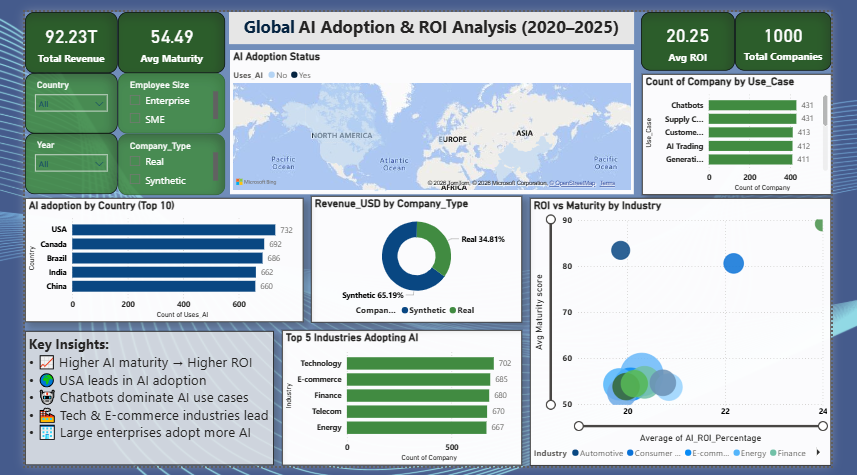

Layout of this report page (visuals, bound fields, positions):
{"tool":"powerbi","page":{"name":"Page 1","canvas":[1280,720],"ordinal":0},"visuals":[{"type":"card","fields":{"Values":["Count(ai-adoption-fortune500-synthetic-dataset-2020-202.Company)"]},"box":[1127,0,152.8,92.6],"z":0},{"type":"card","fields":{"Values":["ai-adoption-fortune500-synthetic-dataset-2020-202.Avg Maturity"]},"box":[146.9,0,170.4,97],"z":1000},{"type":"card","fields":{"Values":["ai-adoption-fortune500-synthetic-dataset-2020-202.Avg ROI"]},"box":[978.4,0,148.6,93.2],"z":2000},{"type":"card","fields":{"Values":["Sum(ai-adoption-fortune500-synthetic-dataset-2020-202.Revenue_USD)"]},"box":[0,0,146.9,97],"z":3000},{"type":"filledMap","title":"AI Adoption Status","fields":{"Category":["ai-adoption-fortune500-synthetic-dataset-2020-202.Country"],"Series":["ai-adoption-fortune500-synthetic-dataset-2020-202.Uses_AI"],"Y":["CountNonNull(ai-adoption-fortune500-synthetic-dataset-2020-202.Company)"]},"box":[325.4,60.3,641.3,228.6],"z":4000},{"type":"barChart","title":"Top 5 Industries Adopting AI","fields":{"Category":["ai-adoption-fortune500-synthetic-dataset-2020-202.Industry"],"Y":["CountNonNull(ai-adoption-fortune500-synthetic-dataset-2020-202.Company)"]},"box":[408.1,504.1,381.1,214.9],"z":5000},{"type":"clusteredBarChart","fields":{"Category":["ai-adoption-fortune500-synthetic-dataset-2020-202.Use_Case"],"Y":["CountNonNull(ai-adoption-fortune500-synthetic-dataset-2020-202.Company)"]},"box":[978.6,98.4,301.2,192.5],"z":6000},{"type":"scatterChart","title":"ROI vs Maturity by Industry","fields":{"Size":["Sum(ai-adoption-fortune500-synthetic-dataset-2020-202.Revenue_USD)"],"Series":["ai-adoption-fortune500-synthetic-dataset-2020-202.Industry"],"Y":["ai-adoption-fortune500-synthetic-dataset-2020-202.Avg Maturity"],"X":["ai-adoption-fortune500-synthetic-dataset-2020-202.Avg ROI"]},"box":[802.3,295.3,477.6,424.7],"z":7000},{"type":"slicer","fields":{"Values":["ai-adoption-fortune500-synthetic-dataset-2020-202.Country"]},"box":[0,97,146.9,95.5],"z":8000},{"type":"slicer","fields":{"Values":["ai-adoption-fortune500-synthetic-dataset-2020-202.Employee_Size"]},"box":[146.9,97,170.4,95.5],"z":9000},{"type":"donutChart","title":"Revenue_USD by Company_Type","fields":{"Category":["ai-adoption-fortune500-synthetic-dataset-2020-202.Company_Type"],"Y":["Sum(ai-adoption-fortune500-synthetic-dataset-2020-202.Revenue_USD)"]},"box":[454.1,291.9,335.1,201.4],"z":10000},{"type":"textbox","box":[323.8,0,642.9,50.8],"z":11000},{"type":"slicer","fields":{"Values":["ai-adoption-fortune500-synthetic-dataset-2020-202.Year"]},"box":[0,192.5,146.9,97],"z":13000},{"type":"slicer","fields":{"Values":["ai-adoption-fortune500-synthetic-dataset-2020-202.Company_Type"]},"box":[146.9,194,170.4,97],"z":14000},{"type":"clusteredBarChart","title":"AI adoption by Country (Top 10)","fields":{"Category":["ai-adoption-fortune500-synthetic-dataset-2020-202.Country"],"Y":["CountNonNull(ai-adoption-fortune500-synthetic-dataset-2020-202.Uses_AI)"]},"box":[0,295.9,441.9,197.3],"z":14001},{"type":"textbox","box":[0,506.3,395.2,212.7],"z":14002}]}

Visuals, with their boxes in screenshot pixels (x1, y1, x2, y2), scaled from the page's 1280x720 canvas onto the 857x475 screenshot:
card - Count(ai-adoption-fortune500-synthetic-dataset-2020-202.Company): [755, 0, 856, 61]
card - ai-adoption-fortune500-synthetic-dataset-2020-202.Avg Maturity: [98, 0, 212, 64]
card - ai-adoption-fortune500-synthetic-dataset-2020-202.Avg ROI: [655, 0, 755, 61]
card - Sum(ai-adoption-fortune500-synthetic-dataset-2020-202.Revenue_USD): [0, 0, 98, 64]
"AI Adoption Status" filledMap: [218, 40, 647, 191]
"Top 5 Industries Adopting AI" barChart: [273, 333, 528, 474]
clusteredBarChart - ai-adoption-fortune500-synthetic-dataset-2020-202.Use_Case x CountNonNull(ai-adoption-fortune500-synthetic-dataset-2020-202.Company): [655, 65, 856, 192]
"ROI vs Maturity by Industry" scatterChart: [537, 195, 856, 474]
slicer - ai-adoption-fortune500-synthetic-dataset-2020-202.Country: [0, 64, 98, 127]
slicer - ai-adoption-fortune500-synthetic-dataset-2020-202.Employee_Size: [98, 64, 212, 127]
"Revenue_USD by Company_Type" donutChart: [304, 193, 528, 325]
textbox: [217, 0, 647, 34]
slicer - ai-adoption-fortune500-synthetic-dataset-2020-202.Year: [0, 127, 98, 191]
slicer - ai-adoption-fortune500-synthetic-dataset-2020-202.Company_Type: [98, 128, 212, 192]
"AI adoption by Country (Top 10)" clusteredBarChart: [0, 195, 296, 325]
textbox: [0, 334, 265, 474]
